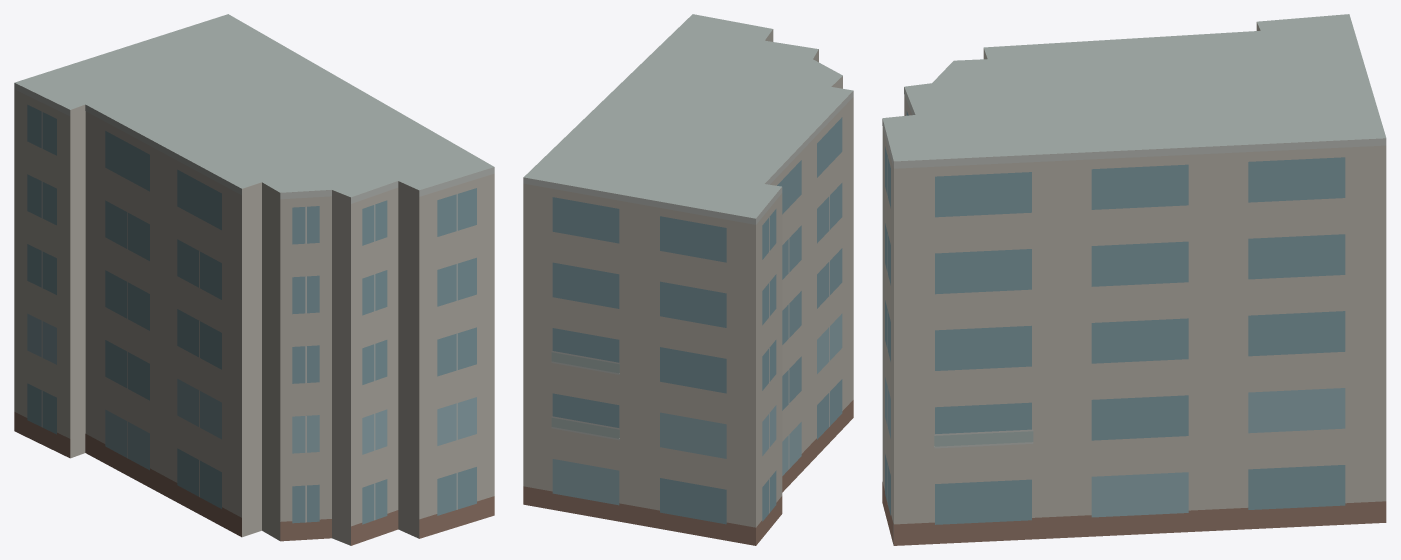
Rendered from survey-upis-32622630.glb.
The picture shows the model from 3 angles, left to right: view 1: azimuth 30°, elevation 25°; view 2: azimuth 150°, elevation 25°; view 3: azimuth 270°, elevation 25°; orthographic projection. The views are drawn at different scales.
Visible parts, largest first — view 1: survey-upis-32622630.tmp; view 2: survey-upis-32622630.tmp; view 3: survey-upis-32622630.tmp.
Part boxes in pixels (box(x1,y1,x2,y2)): survey-upis-32622630.tmp: box(14, 14, 494, 545); survey-upis-32622630.tmp: box(523, 14, 853, 545); survey-upis-32622630.tmp: box(882, 14, 1386, 545).
Size of the model in its own units: 10.62 by 12.9 by 15.34.
